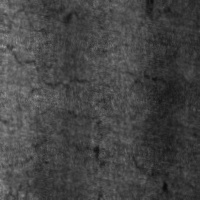crazing: (8, 7, 106, 89)
